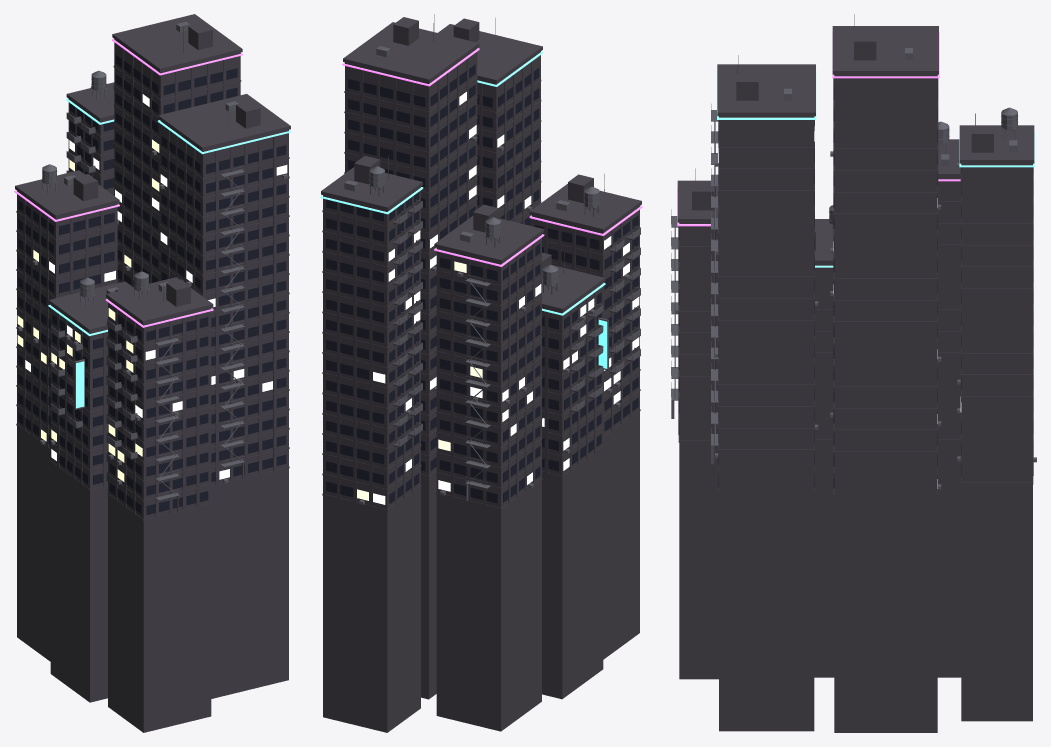
The model's file is block.glb.
3 renders of one model, left to right at view 1: azimuth 30°, elevation 25°; view 2: azimuth 150°, elevation 25°; view 3: azimuth 270°, elevation 25°, orthographic. The views are drawn at different scales.
Visible parts, largest first — view 1: block; view 2: block; view 3: block.
Part boxes in pixels (x1=…): block: x1=14, y1=14, x2=291, y2=732; block: x1=320, y1=14, x2=642, y2=732; block: x1=671, y1=14, x2=1036, y2=732.
Bounding box in the file's own units: 30.4 × 96.18 × 46.02.
